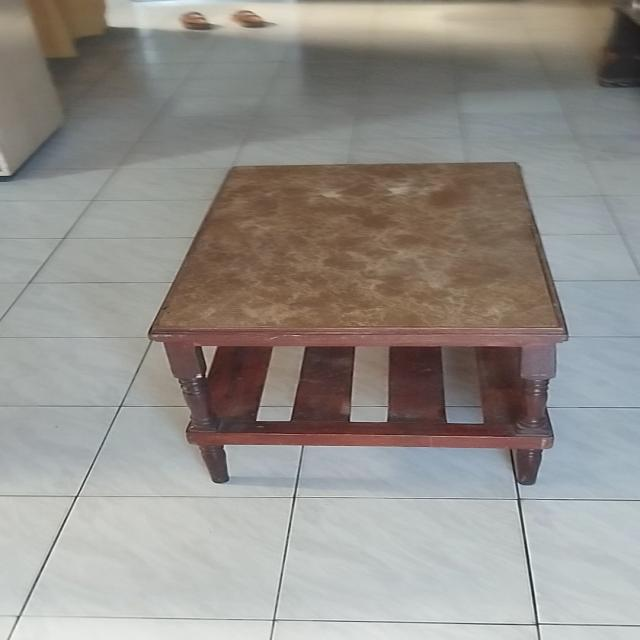table: (147, 157, 570, 488)
